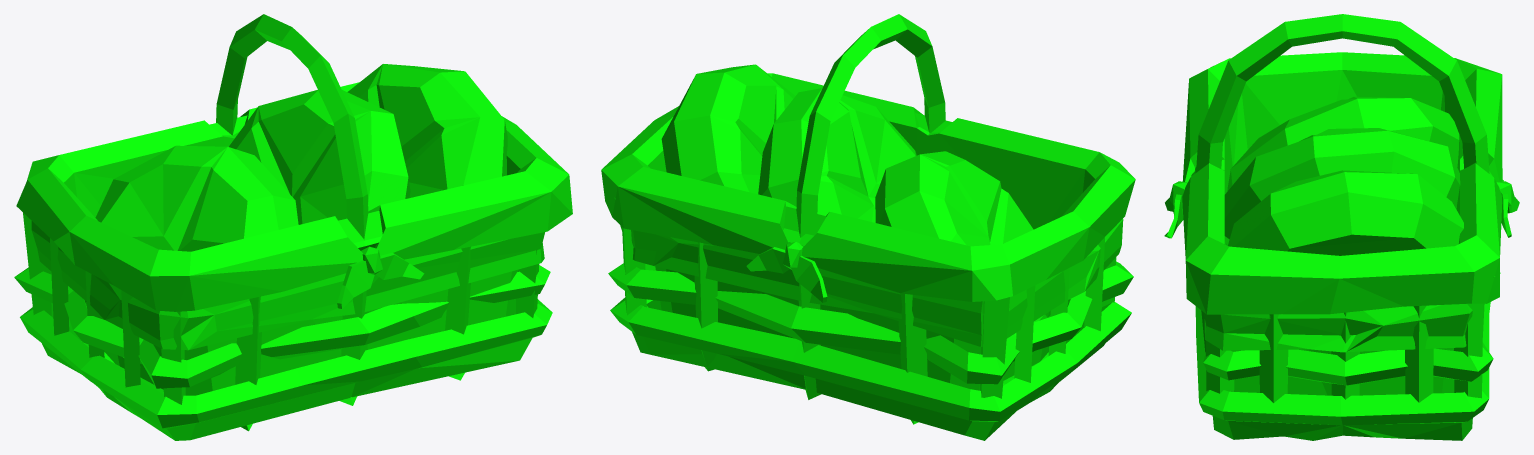
File: SM_Basket_Bread_Cross_Top_Fantasy.fbx
The picture shows the model from 3 angles, left to right: view 1: azimuth 30°, elevation 25°; view 2: azimuth 150°, elevation 25°; view 3: azimuth 270°, elevation 25°; orthographic projection. The views are drawn at different scales.
Parts seen in each view (by area): view 1: basket-bread-cross-top-fantasy; view 2: basket-bread-cross-top-fantasy; view 3: basket-bread-cross-top-fantasy.
Part boxes in pixels (left/top/right/bottom): basket-bread-cross-top-fantasy: left=14, top=14, right=572, bottom=440; basket-bread-cross-top-fantasy: left=601, top=14, right=1135, bottom=440; basket-bread-cross-top-fantasy: left=1164, top=14, right=1519, bottom=440.
Bounding box in the file's own units: 0.5662 × 0.4076 × 0.3841.
